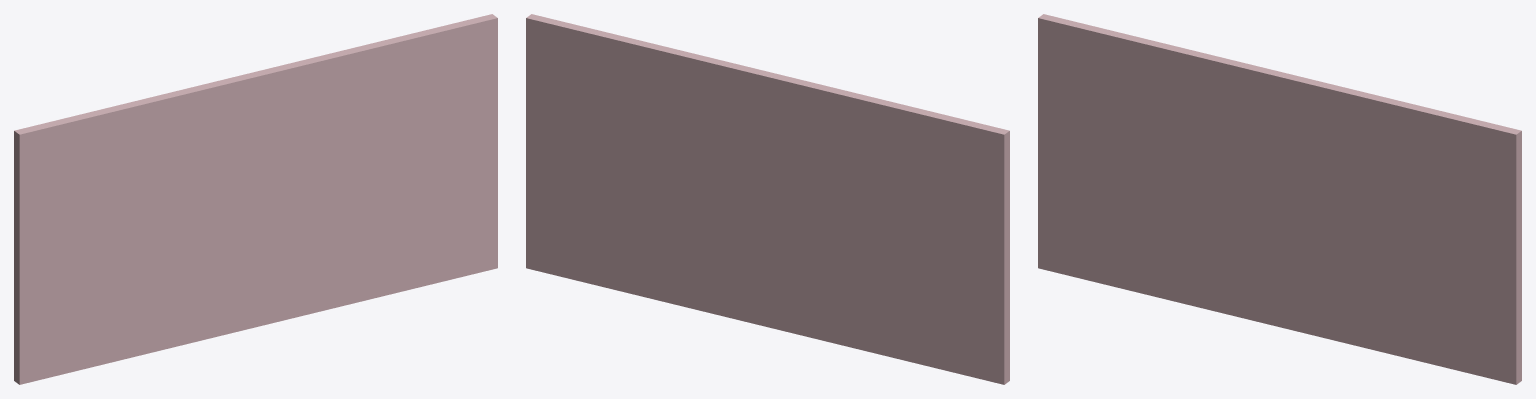
The model's file is board.glb.
3 renders of one model, left to right at view 1: azimuth 30°, elevation 25°; view 2: azimuth 150°, elevation 25°; view 3: azimuth 330°, elevation 25°, orthographic.
Parts seen in each view (by area): view 1: Substrate_Layer_0; view 2: Substrate_Layer_0; view 3: Substrate_Layer_0.
Boxes of the visible parts, x1,y1,x2,y2 form: Substrate_Layer_0: (14,14,497,384); Substrate_Layer_0: (526,14,1009,384); Substrate_Layer_0: (1038,14,1521,384).
Bounding box in the file's own units: 0.1 × 0.05 × 0.002.
